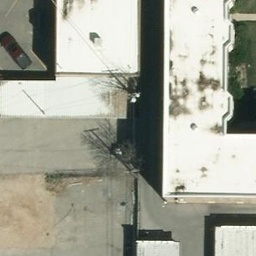car: (4, 37, 32, 68)
